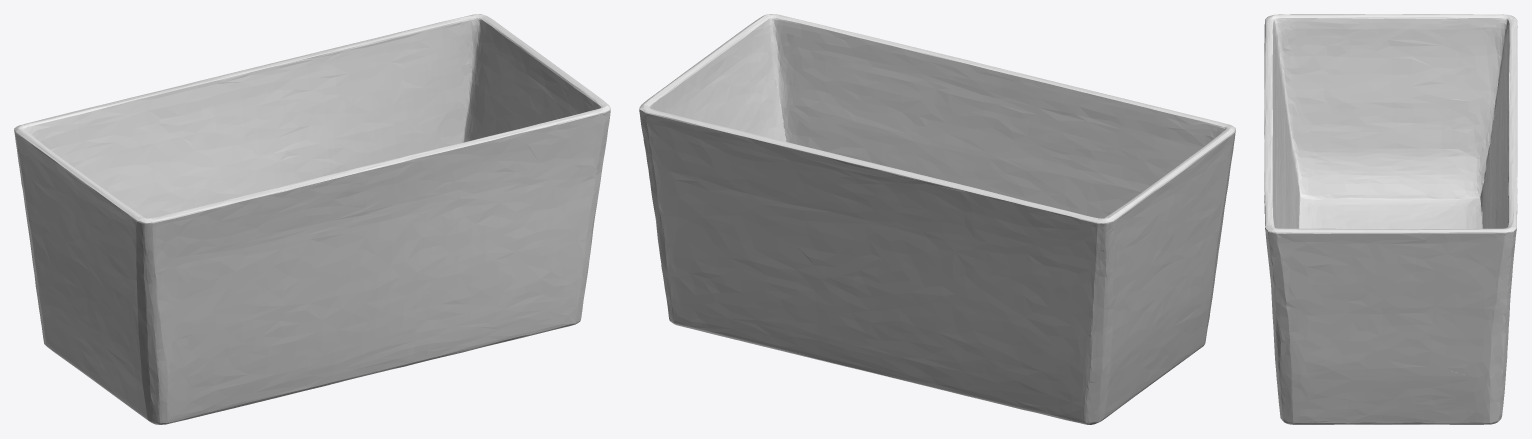
File: b0978eeb-5d5c-40c1-8b7d-92324030c69c.glb
3 views of the same model, side by side, from view 1: azimuth 30°, elevation 25°; view 2: azimuth 150°, elevation 25°; view 3: azimuth 270°, elevation 25° (orthographic). The views are drawn at different scales.
Visible parts, largest first — view 1: world; view 2: world; view 3: world.
Part boxes in pixels (x1,y1,x2,y2): world: (14, 14, 610, 424); world: (639, 14, 1235, 424); world: (1264, 14, 1517, 424).
Size of the model in its own units: 1 by 0.44 by 0.4903.
Materials: 1 (1 with a texture image).
